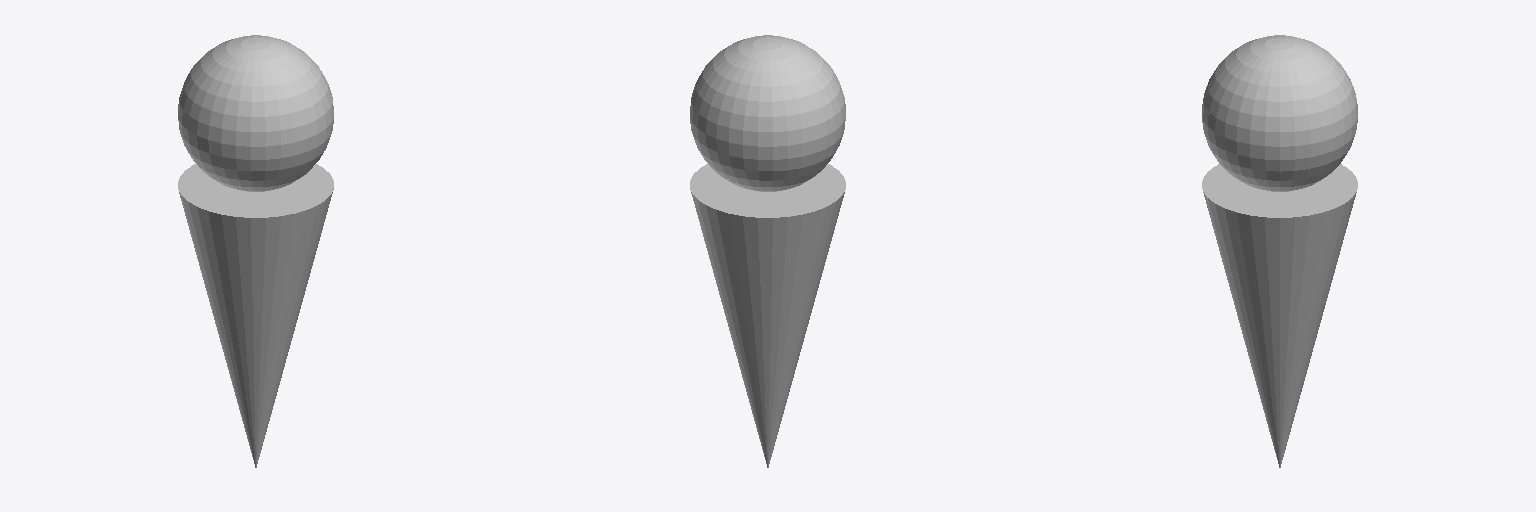
The model's file is passenger.obj.
3 views of the same model, side by side, from view 1: azimuth 30°, elevation 25°; view 2: azimuth 150°, elevation 25°; view 3: azimuth 270°, elevation 25° (orthographic).
Visible parts, largest first — view 1: Cone, Sphere; view 2: Cone, Sphere; view 3: Cone, Sphere.
Boxes of the visible parts, x1=… form: Cone: x1=178, y1=164, x2=333, y2=467; Sphere: x1=178, y1=35, x2=333, y2=191; Cone: x1=690, y1=164, x2=845, y2=467; Sphere: x1=690, y1=35, x2=845, y2=191; Cone: x1=1202, y1=164, x2=1357, y2=467; Sphere: x1=1202, y1=35, x2=1357, y2=191.
Bounding box in the file's own units: 2 × 6 × 2.